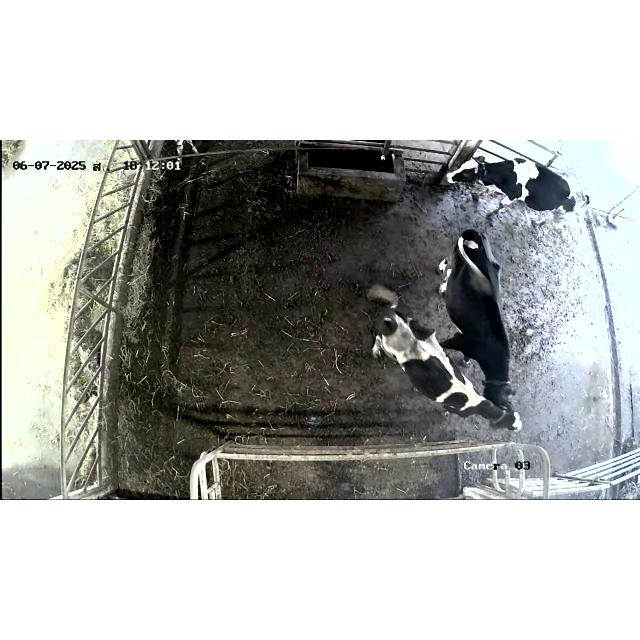stand: (370, 288, 526, 434), (438, 230, 526, 396), (446, 152, 590, 228)
